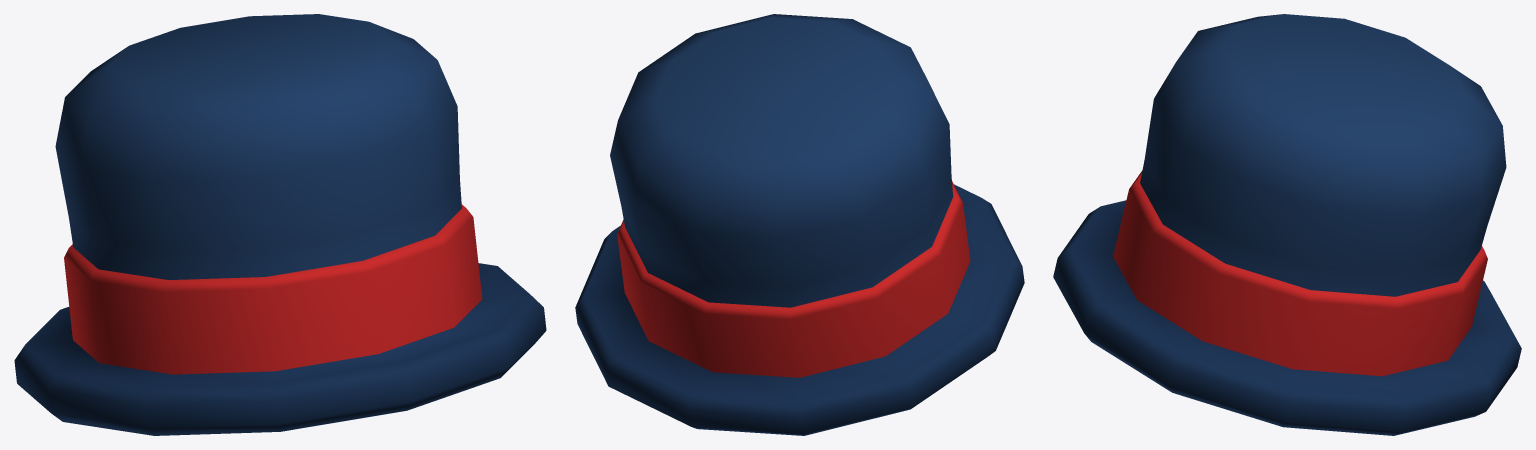
File: Headgear_15.fbx
The picture shows the model from 3 angles, left to right: view 1: azimuth 30°, elevation 25°; view 2: azimuth 150°, elevation 25°; view 3: azimuth 270°, elevation 25°; orthographic projection. The views are drawn at different scales.
Parts seen in each view (by area): view 1: Headgear_15; view 2: Headgear_15; view 3: Headgear_15.
Part boxes in pixels (x1=…): Headgear_15: x1=14, y1=14, x2=546, y2=435; Headgear_15: x1=575, y1=14, x2=1024, y2=435; Headgear_15: x1=1053, y1=14, x2=1521, y2=435.
Bounding box in the file's own units: 104 × 78.93 × 103.
